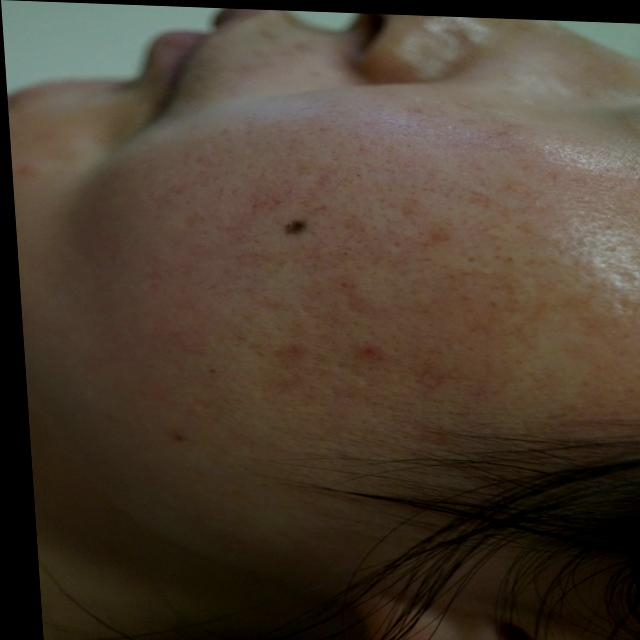dark spot: (265, 208, 307, 239)
